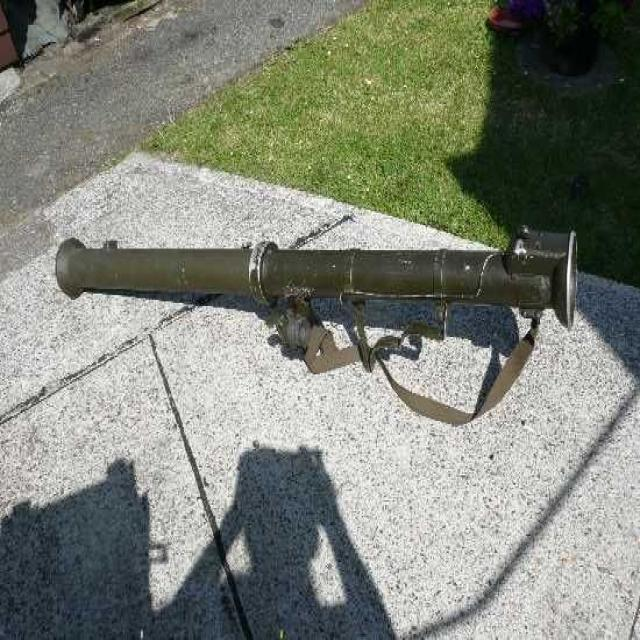bazooka: (48, 202, 622, 430)
